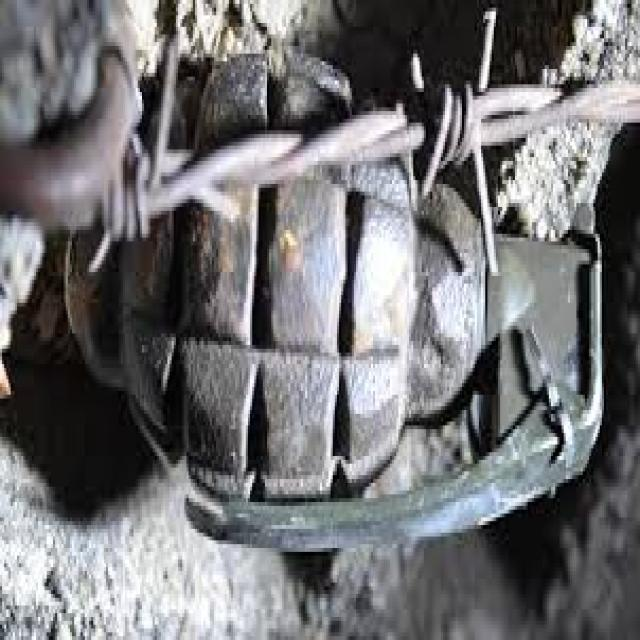grenade: (54, 45, 614, 564)
